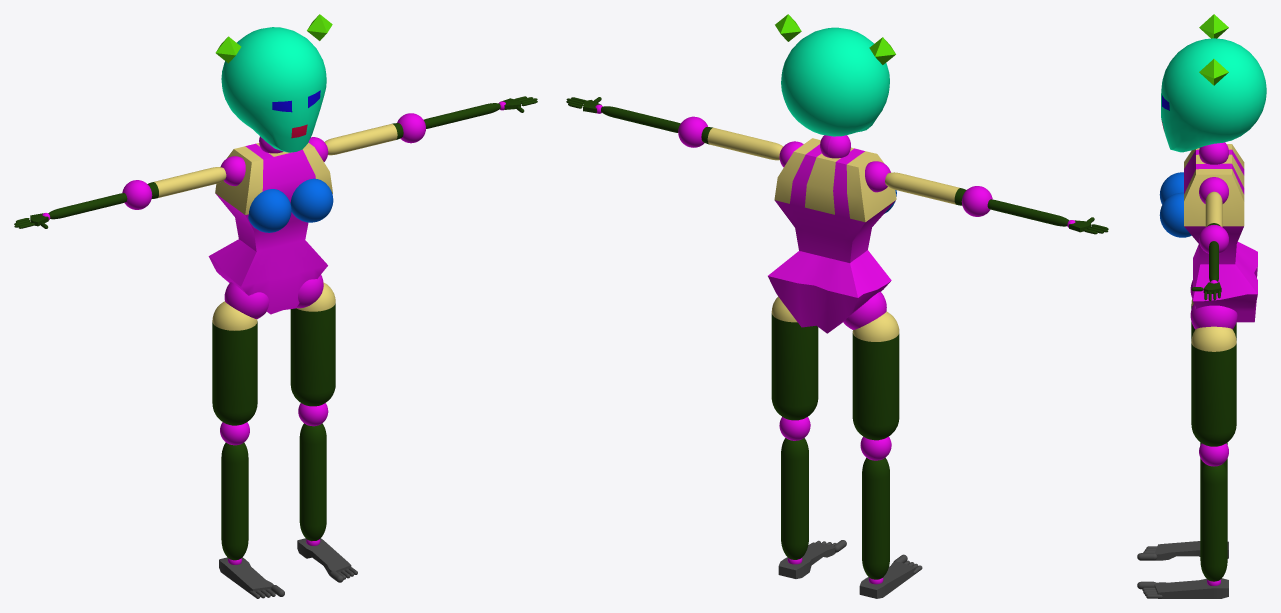
The model's file is DauterUnmixamoed.fbx.
The picture shows the model from 3 angles, left to right: view 1: azimuth 30°, elevation 25°; view 2: azimuth 150°, elevation 25°; view 3: azimuth 270°, elevation 25°; orthographic projection. The views are drawn at different scales.
Parts seen in each view (by area): view 1: DauterBase.rehinged; view 2: DauterBase.rehinged; view 3: DauterBase.rehinged.
Boxes of the visible parts, x1=… form: DauterBase.rehinged: x1=14, y1=14, x2=537, y2=598; DauterBase.rehinged: x1=566, y1=14, x2=1108, y2=598; DauterBase.rehinged: x1=1137, y1=14, x2=1266, y2=598.
Bounding box in the file's own units: 802 × 788 × 172.
